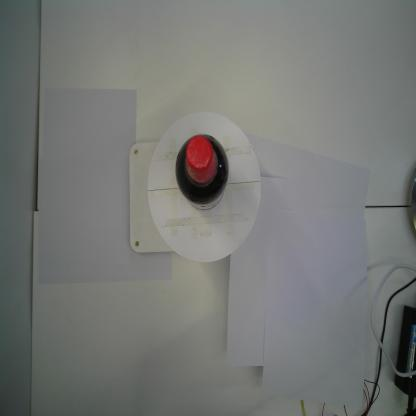Alcohol: (174, 132, 230, 212)
